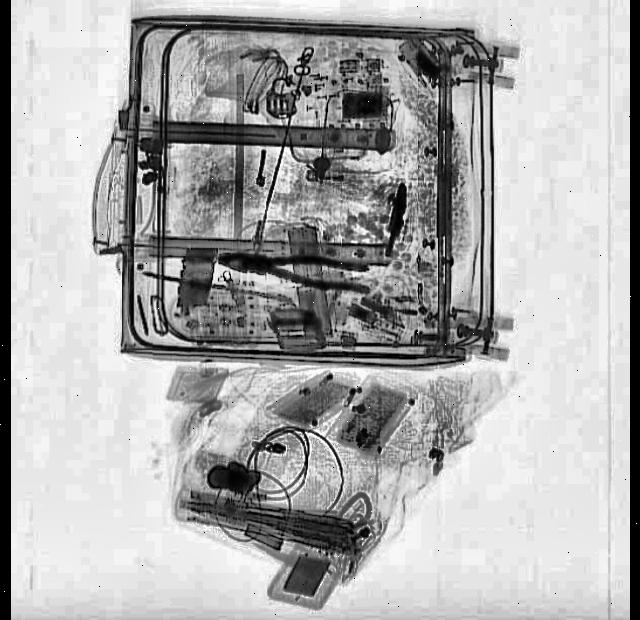Pliers: (217, 244, 373, 300)
